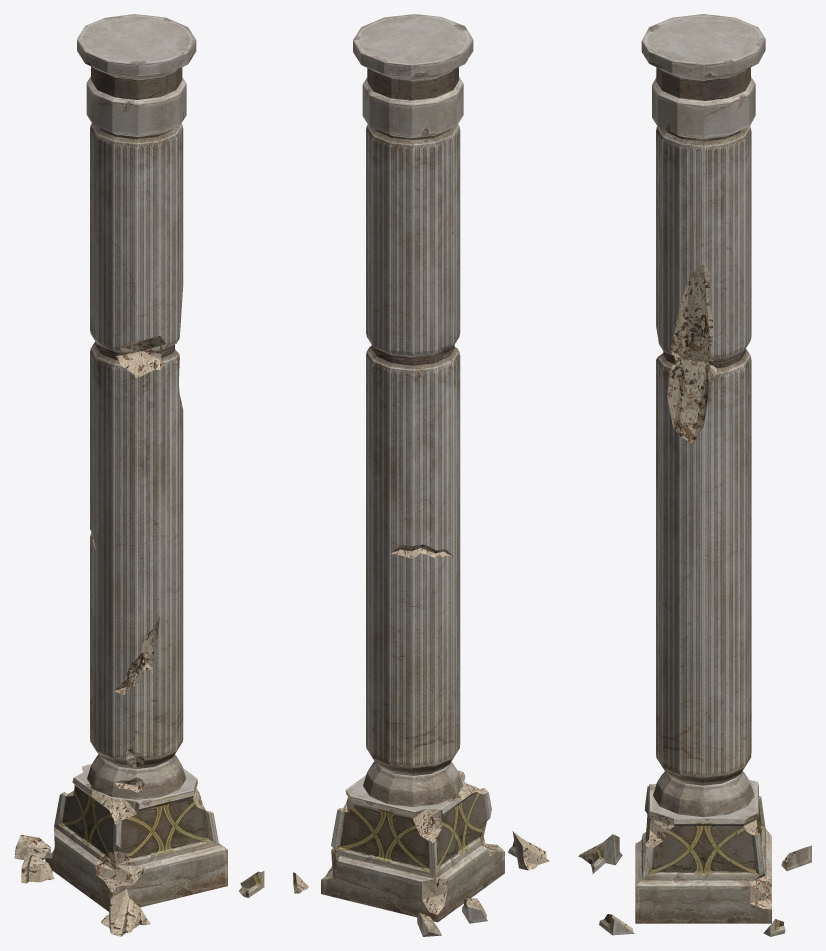
The model's file is bg_atm_runapass_churchpillar01_sm_lkj.FBX.
3 views of the same model, side by side, from view 1: azimuth 30°, elevation 25°; view 2: azimuth 150°, elevation 25°; view 3: azimuth 270°, elevation 25° (orthographic). The views are drawn at different scales.
Visible parts, largest first — view 1: bg_atm_runapass_churchpillar01_sm_lkj; view 2: bg_atm_runapass_churchpillar01_sm_lkj; view 3: bg_atm_runapass_churchpillar01_sm_lkj.
Boxes of the visible parts, <box> form: bg_atm_runapass_churchpillar01_sm_lkj: <box>14,14,264,936</box>; bg_atm_runapass_churchpillar01_sm_lkj: <box>293,14,549,936</box>; bg_atm_runapass_churchpillar01_sm_lkj: <box>578,14,811,936</box>.
Bounding box in the file's own units: 182 × 803 × 198.
